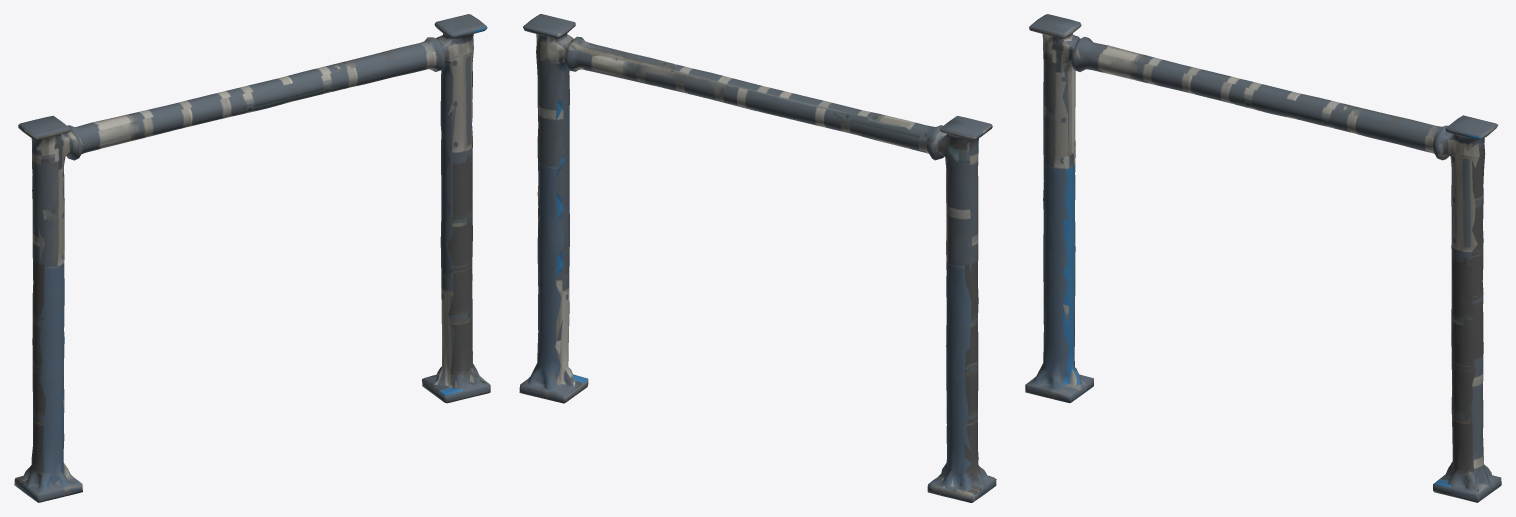
File: BigPole.obj
3 renders of one model, left to right at view 1: azimuth 30°, elevation 25°; view 2: azimuth 150°, elevation 25°; view 3: azimuth 330°, elevation 25°, orthographic.
Visible parts, largest first — view 1: material_0; view 2: material_0; view 3: material_0.
Boxes of the visible parts, box(x1,y1,x2,y2) form: material_0: box(14, 14, 490, 502); material_0: box(519, 14, 996, 502); material_0: box(1025, 14, 1501, 502).
Size of the model in its own units: 1 by 0.7683 by 0.0947.
